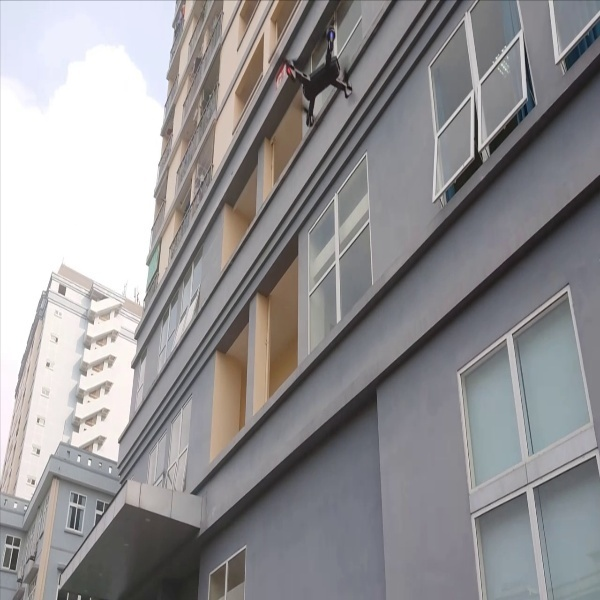drone: (276, 20, 368, 132)
